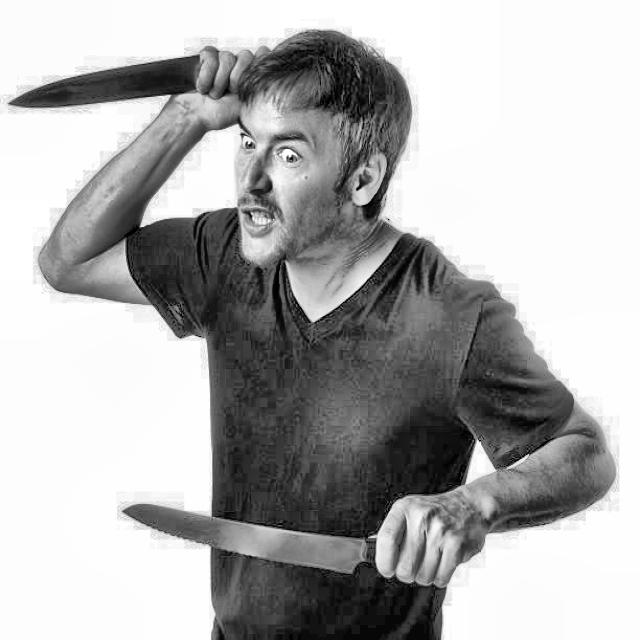pisau: (111, 494, 510, 591)
